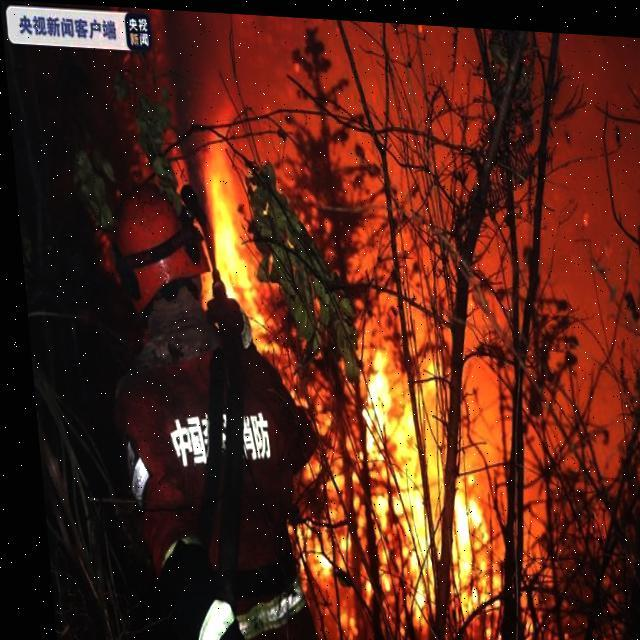Fire: (182, 109, 552, 639)
